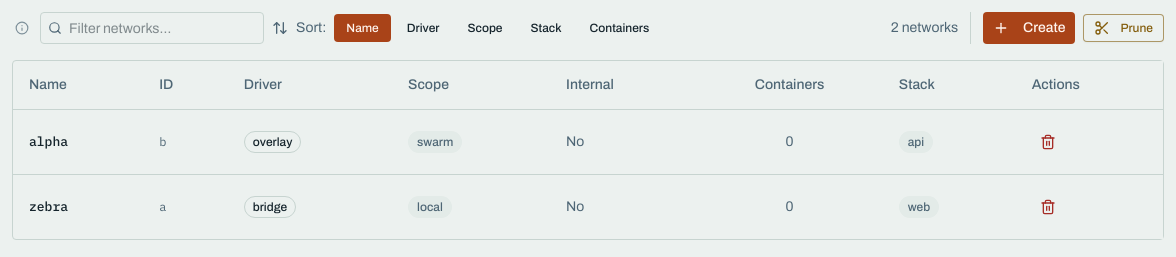
it: NetworksTab — filtering and sorting › filters on name, driver, scope and stack
This screenshot has width=1176, height=257.
Type "alpha" into the field with placeholder "Filter networks…" at (152, 28), box [40,12,264,44]
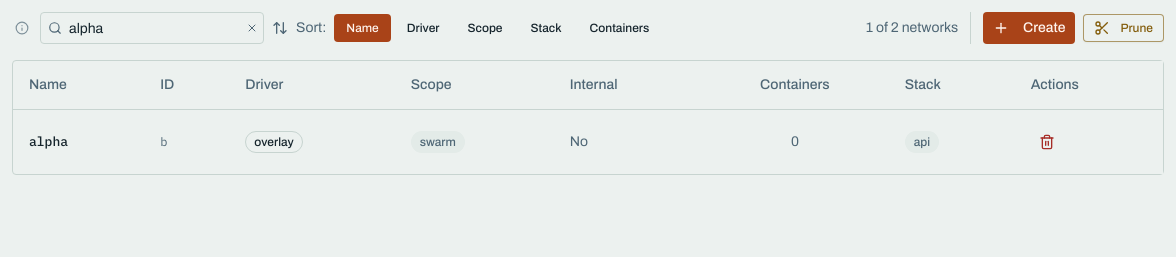
Expected: the text "alpha" is shown, [29,132,68,150]
Expected: the text "zebra" is gone
Replace the text in the field with placeholder "Filter networks…" with "overlay" at (152, 28), box [40,12,264,44]
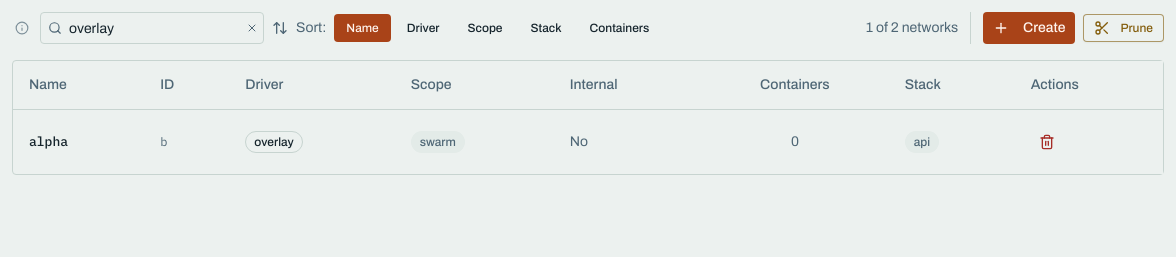
Expected: the text "alpha" is shown, [29,132,68,150]
Expected: the text "zebra" is not shown
Replace the text in the field with placeholder "Filter networks…" with "swarm" at (152, 28), box [40,12,264,44]
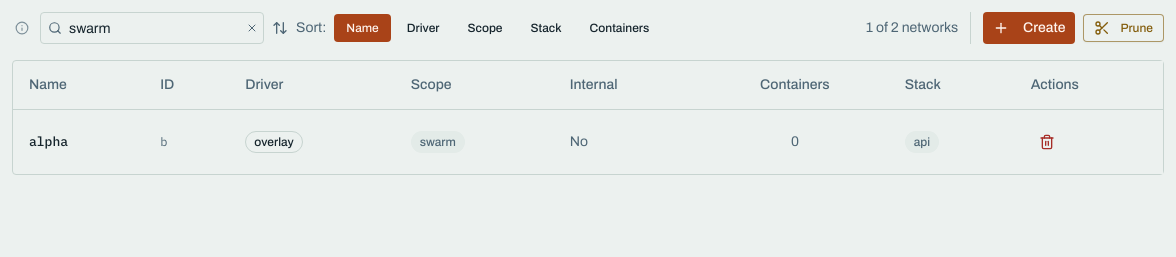
Expected: the text "alpha" is shown, [29,132,68,150]
Expected: the text "zebra" is not shown
Replace the text in the field with placeholder "Filter networks…" with "web" at (152, 28), box [40,12,264,44]
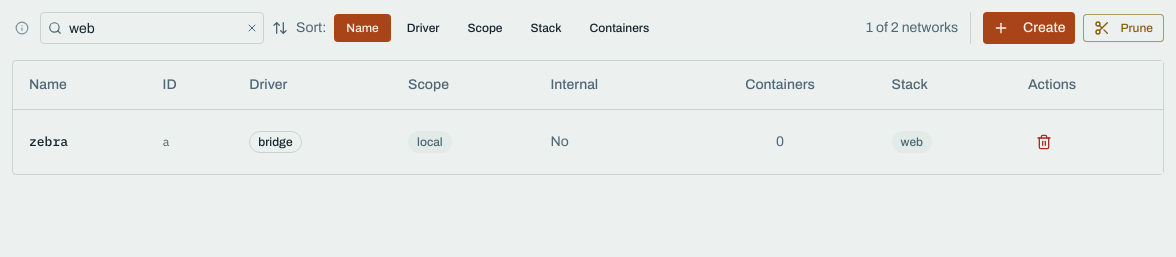
Expected: the text "zebra" is shown, [29,132,68,150]
Expected: the text "alpha" is gone
